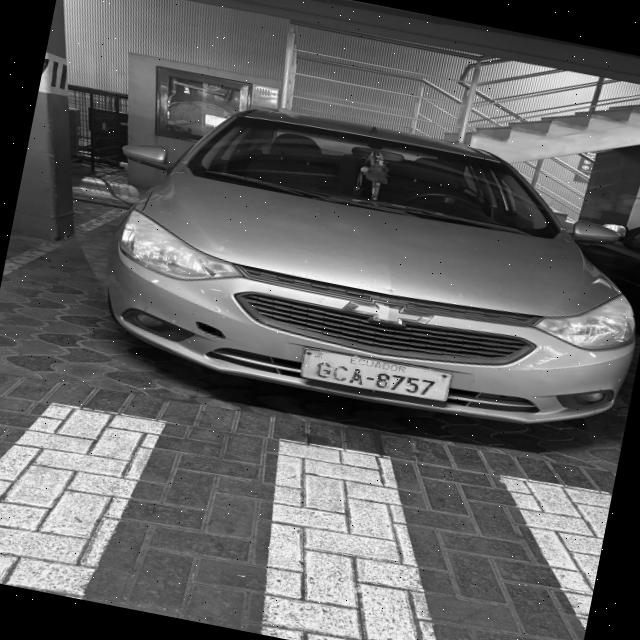Placa: (301, 349, 452, 401)
